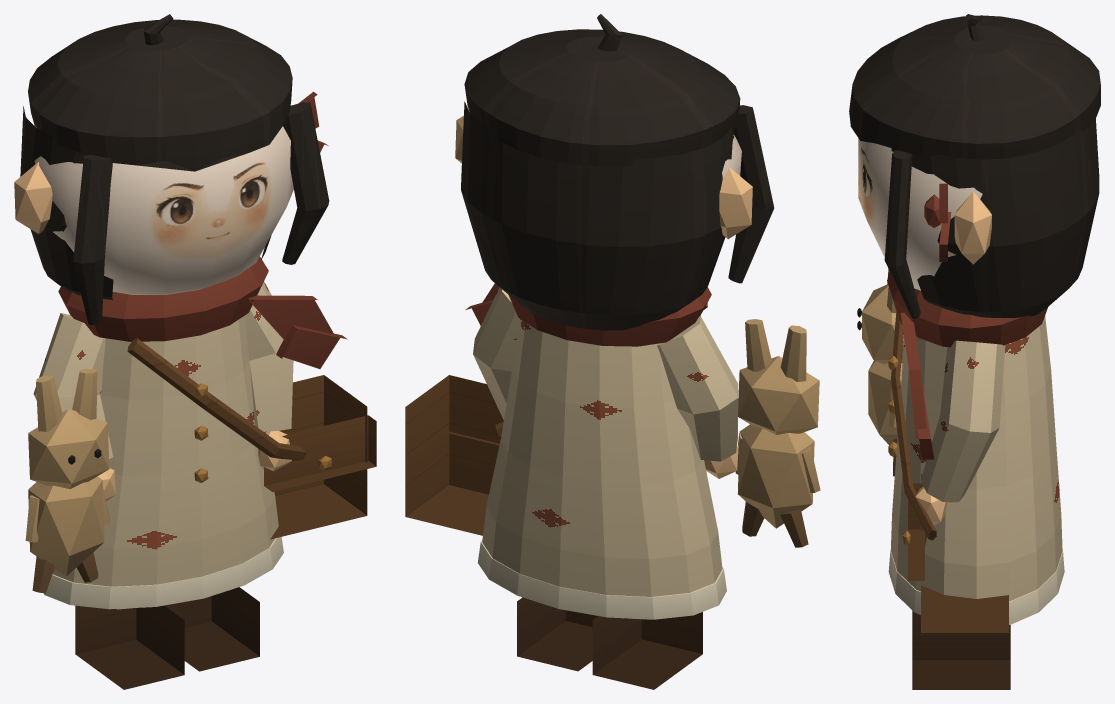
Rendered from mira-v01.glb.
3 views of the same model, side by side, from view 1: azimuth 30°, elevation 25°; view 2: azimuth 150°, elevation 25°; view 3: azimuth 270°, elevation 25° (orthographic).
Visible parts, largest first — view 1: coat, hair_crown, skull, scarf_wrap, boot_l, satchel, boot_r, coat_hem, rabbit_body, satchel_flap, rabbit_head, hair_side_l (+12 smaller); view 2: coat, hair_bob, hair_crown, satchel, sleeve_l, boot_l, coat_hem, rabbit_body, rabbit_head, boot_r, hair_side_l, scarf_wrap (+5 smaller); view 3: hair_crown, coat, hair_bob, sleeve_r, skull, boot_r, scarf_wrap, satchel, hair_side_r, coat_hem, satchel_strap, rabbit_head (+7 smaller).
Part boxes in pixels (<box>): coat: <box>52,316,278,586</box>; hair_crown: <box>28,19,292,171</box>; skull: <box>34,125,293,294</box>; scarf_wrap: <box>58,256,268,341</box>; boot_l: <box>75,605,184,689</box>; satchel: <box>264,375,367,539</box>; boot_r: <box>164,587,259,671</box>; coat_hem: <box>43,537,283,609</box>; rabbit_body: <box>28,476,104,576</box>; satchel_flap: <box>264,415,376,491</box>; rabbit_head: <box>28,408,109,488</box>; hair_side_l: <box>73,154,112,325</box>; coat: <box>482,318,722,596</box>; hair_bob: <box>461,101,733,330</box>; hair_crown: <box>464,29,740,166</box>; satchel: <box>405,375,503,535</box>; sleeve_l: <box>657,316,738,461</box>; boot_l: <box>592,612,702,689</box>; coat_hem: <box>477,539,726,619</box>; rabbit_body: <box>737,424,814,528</box>; rabbit_head: <box>738,356,819,434</box>; boot_r: <box>517,597,597,671</box>; hair_side_l: <box>728,105,774,283</box>; scarf_wrap: <box>508,287,711,346</box>; hair_crown: <box>849,15,1100,159</box>; coat: <box>890,315,1062,601</box>; hair_bob: <box>891,119,1099,317</box>; sleeve_r: <box>920,340,1005,502</box>; skull: <box>858,138,982,290</box>; boot_r: <box>912,611,1010,689</box>; scarf_wrap: <box>887,272,1047,347</box>; satchel: <box>921,474,1008,632</box>; hair_side_r: <box>884,150,920,318</box>; coat_hem: <box>888,549,1064,624</box>; satchel_strap: <box>891,311,936,540</box>; rabbit_head: <box>862,284,903,364</box>.
Bounding box in the file's own units: 1.24 × 2.1 × 0.7439.
2 materials, 2 textured.
